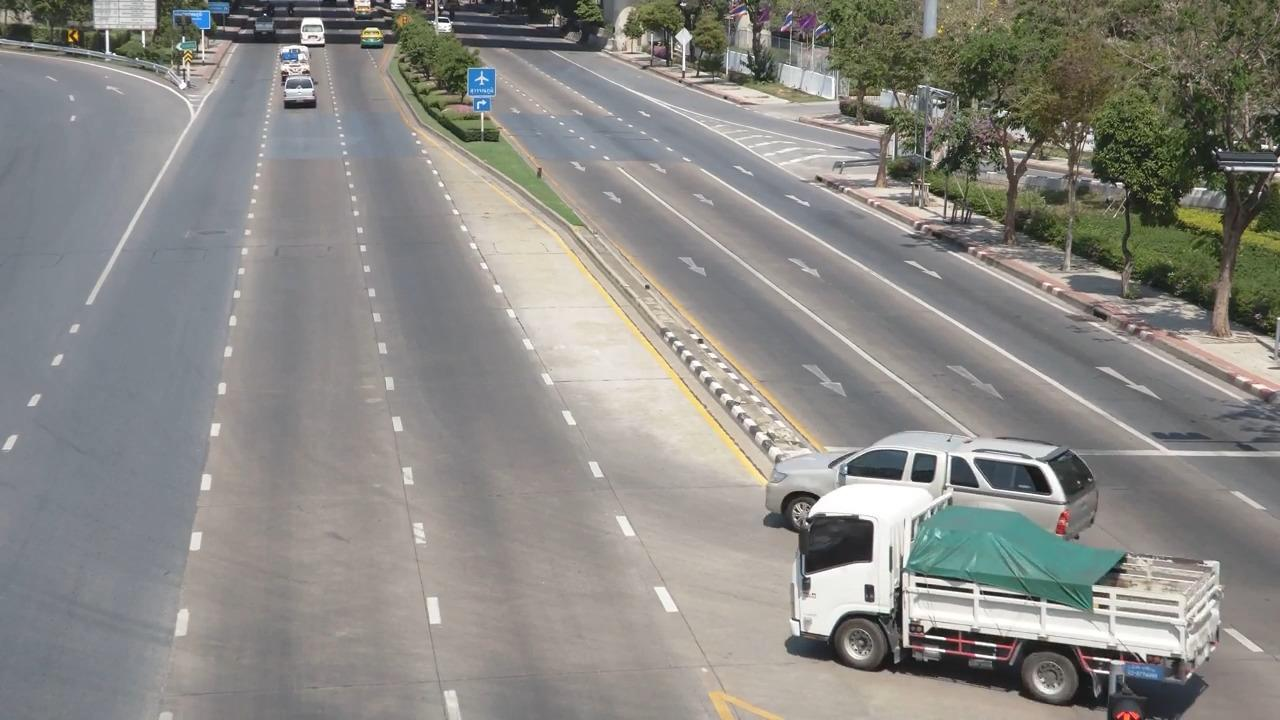CAR: (782, 480, 1232, 720), (761, 391, 1102, 539), (272, 71, 331, 127), (271, 43, 324, 86), (240, 7, 286, 47), (297, 12, 337, 52), (354, 24, 394, 62)
